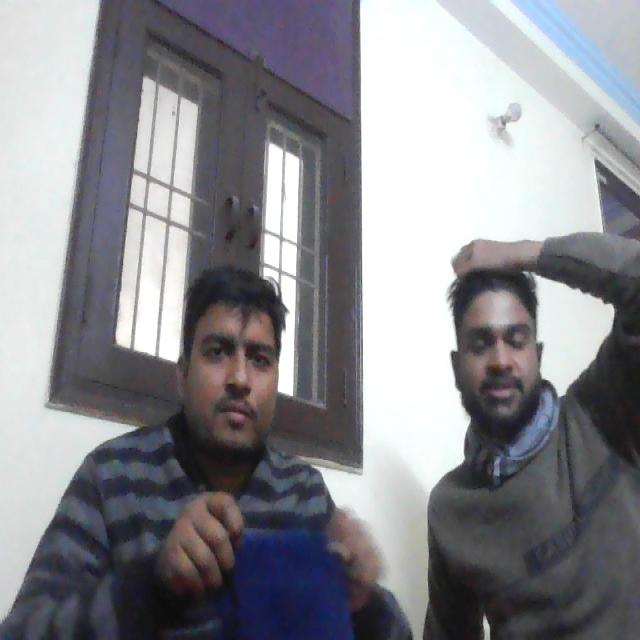real: (176, 252, 286, 460), (450, 242, 549, 430)
